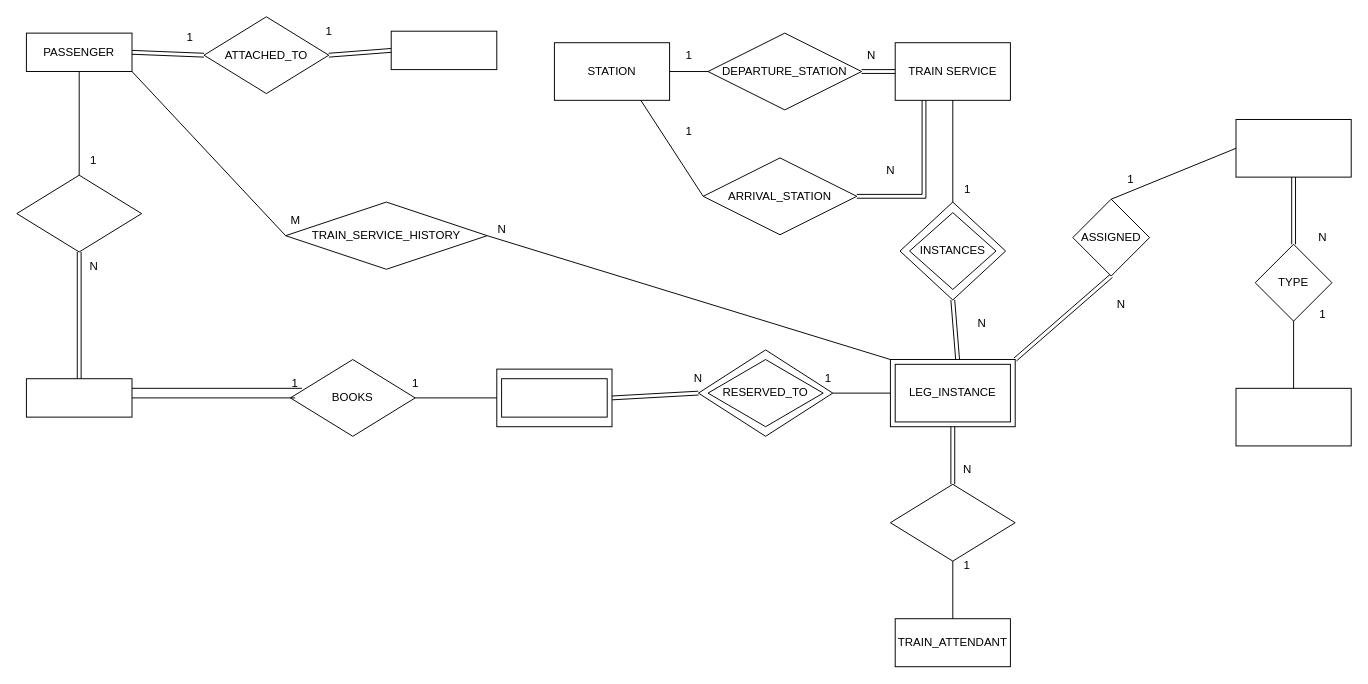
This 1368x684 diagram has some shape labels left out. Each missing label, with the centre of its shape:
"GENERATED_TO" goes at (79,213).
"GUIDES_IN" goes at (952,522).
"PAYMENT_CARD" goes at (443,50).
"SEAT" goes at (554,397).
"TICKET" goes at (78,397).
"TRAIN" goes at (1293,148).
"TRAIN TYPE" goes at (1293,416).
